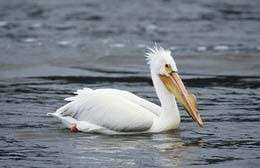pelican: (46, 47, 203, 132)
